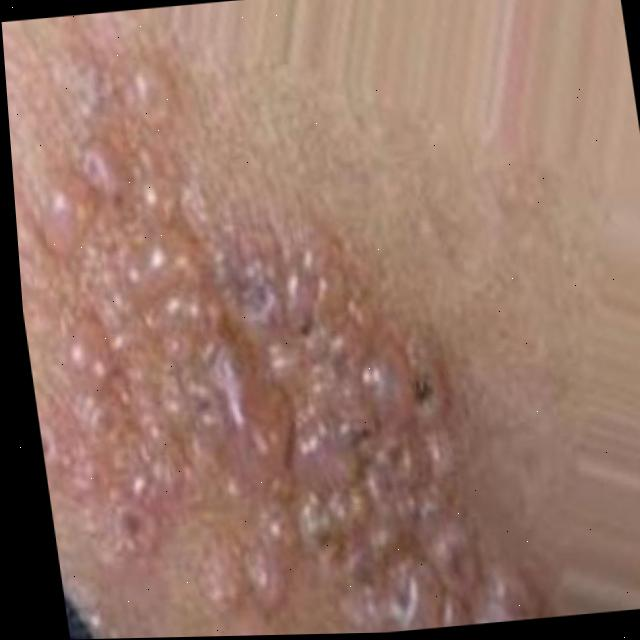Shingles: (6, 69, 527, 640)
